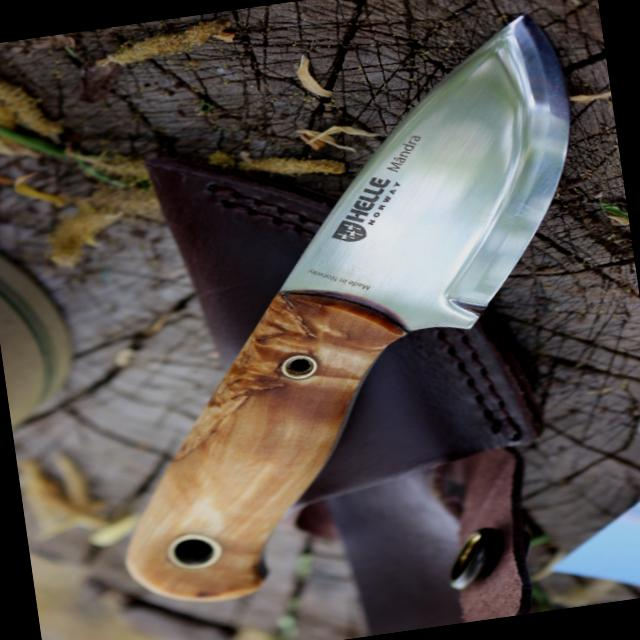knife: (225, 0, 607, 370)
